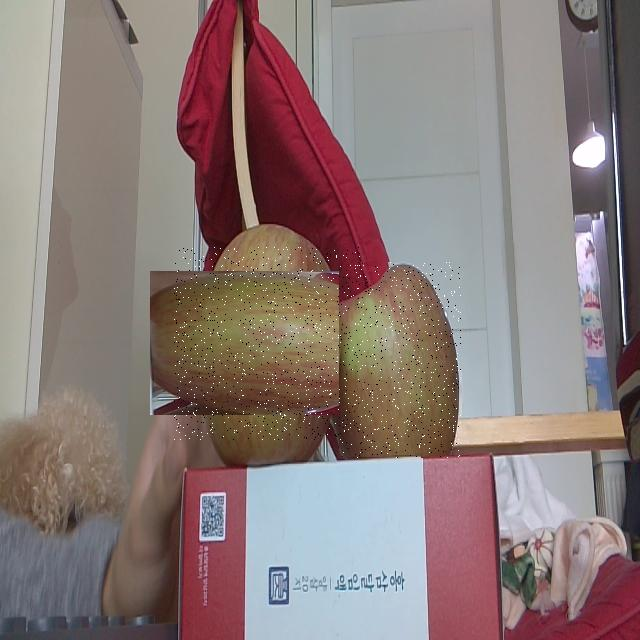apple: (174, 247, 366, 440), (339, 262, 462, 458)
